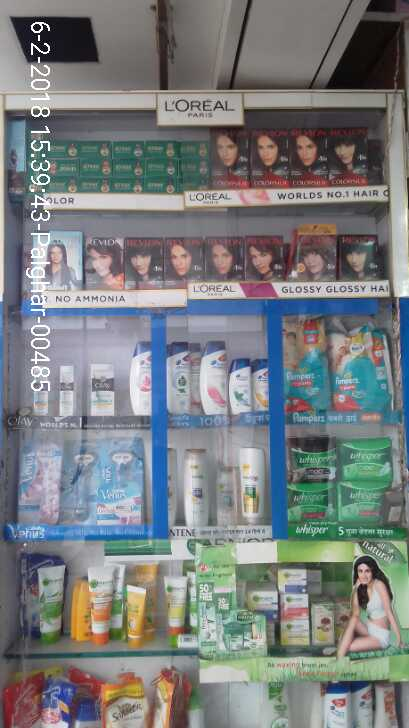venus: (100, 434, 148, 524), (14, 437, 62, 523), (62, 437, 100, 524)
